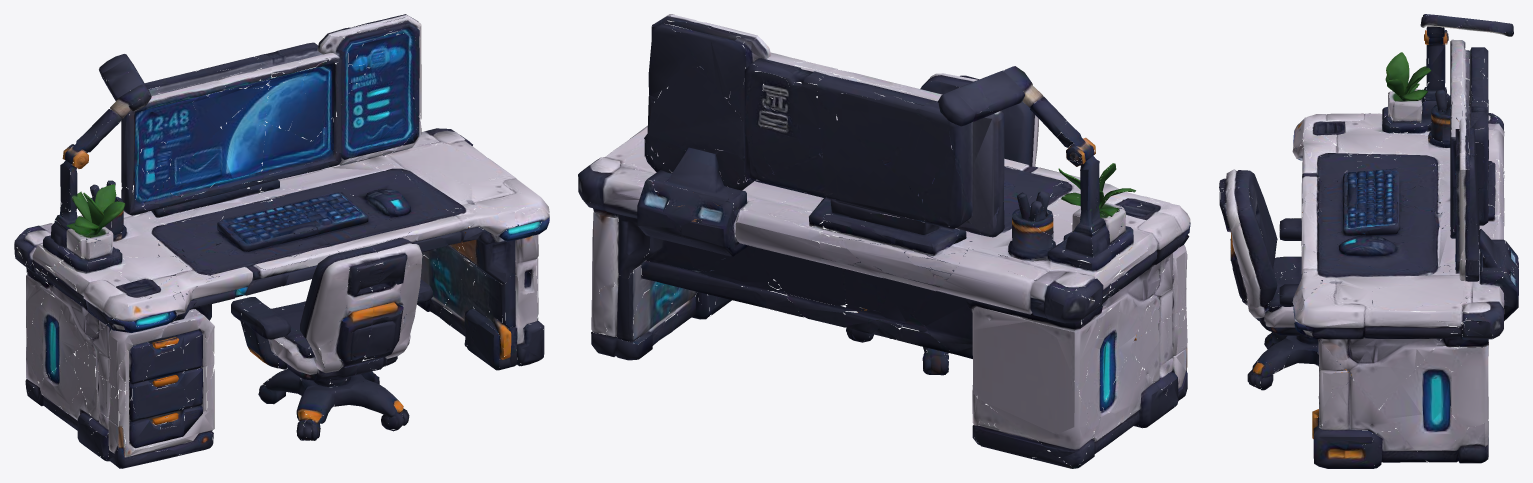
The model's file is RoverDesk.glb.
The picture shows the model from 3 angles, left to right: view 1: azimuth 30°, elevation 25°; view 2: azimuth 150°, elevation 25°; view 3: azimuth 270°, elevation 25°; orthographic projection. The views are drawn at different scales.
Parts seen in each view (by area): view 1: tripo_node_dd5887bb-0177-44bc-b4f5-8a9d31563e60; view 2: tripo_node_dd5887bb-0177-44bc-b4f5-8a9d31563e60; view 3: tripo_node_dd5887bb-0177-44bc-b4f5-8a9d31563e60.
Part boxes in pixels (bbox=[...]): tripo_node_dd5887bb-0177-44bc-b4f5-8a9d31563e60: bbox=[14, 14, 549, 468]; tripo_node_dd5887bb-0177-44bc-b4f5-8a9d31563e60: bbox=[578, 14, 1190, 468]; tripo_node_dd5887bb-0177-44bc-b4f5-8a9d31563e60: bbox=[1219, 14, 1518, 468].
Bounding box in the file's own units: 0.9788 × 0.6618 × 0.6013.
1 material, 1 textured.
